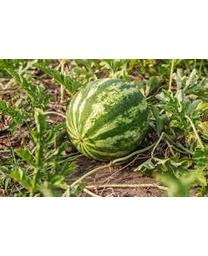watermelon: (66, 79, 153, 166)
